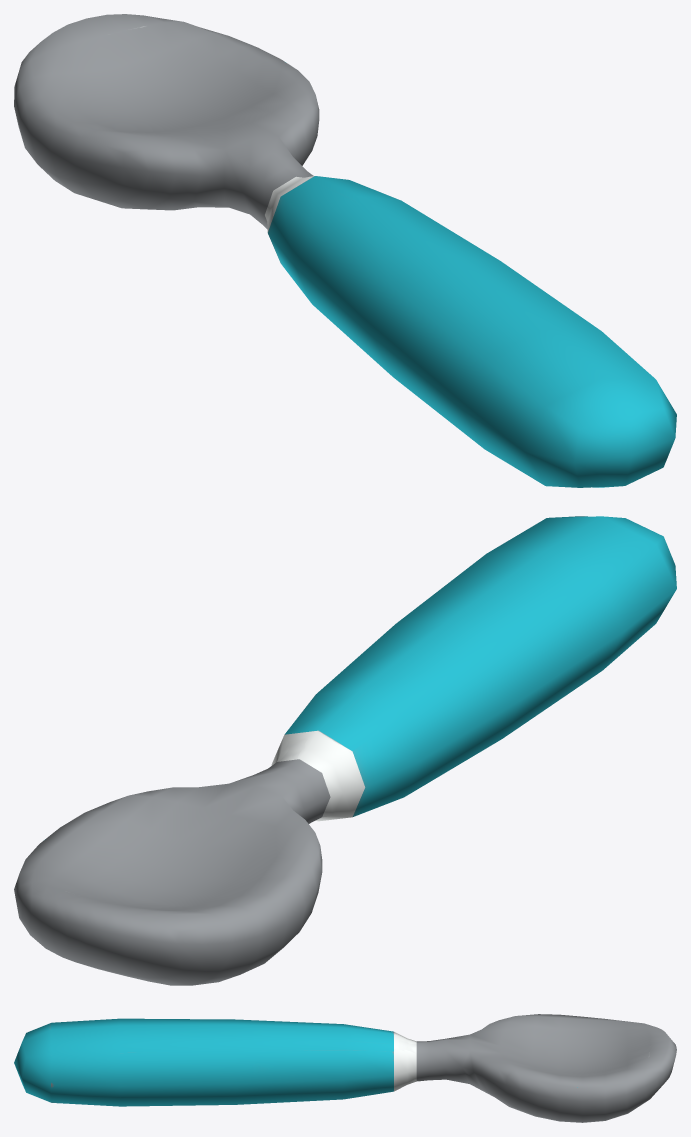
Rendered from cuchara uv.fbx.
3 views of the same model, one above another, from view 1: azimuth 30°, elevation 25°; view 2: azimuth 150°, elevation 25°; view 3: azimuth 270°, elevation 25° (orthographic). The views are drawn at different scales.
Parts seen in each view (by area): view 1: cuchara; view 2: cuchara; view 3: cuchara.
Part boxes in pixels (<box>): cuchara: <box>14,14,676,487</box>; cuchara: <box>14,516,676,985</box>; cuchara: <box>14,1014,676,1122</box>.
Bounding box in the file's own units: 38.54 × 18.9 × 144.
